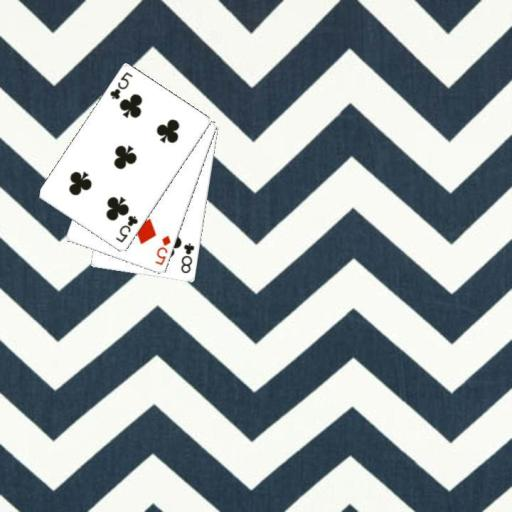5C: (113, 213, 140, 245), (107, 69, 134, 101)
5D: (152, 233, 172, 267)
8C: (178, 241, 196, 276)
